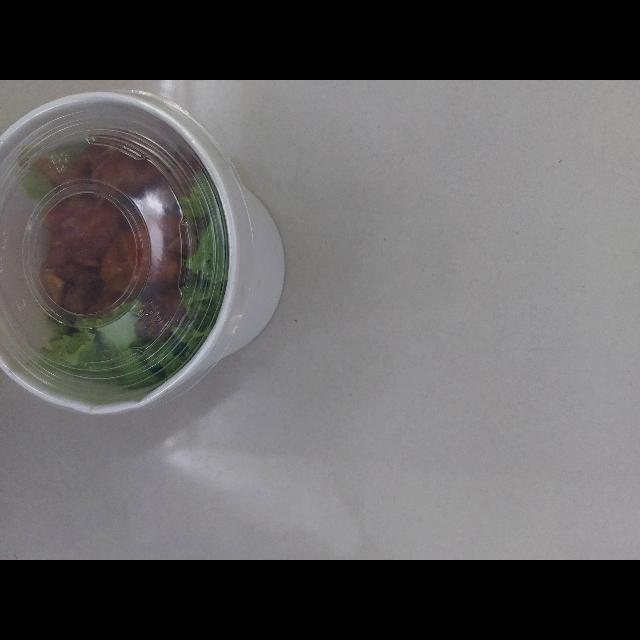rice-bowl: (0, 81, 296, 432)
